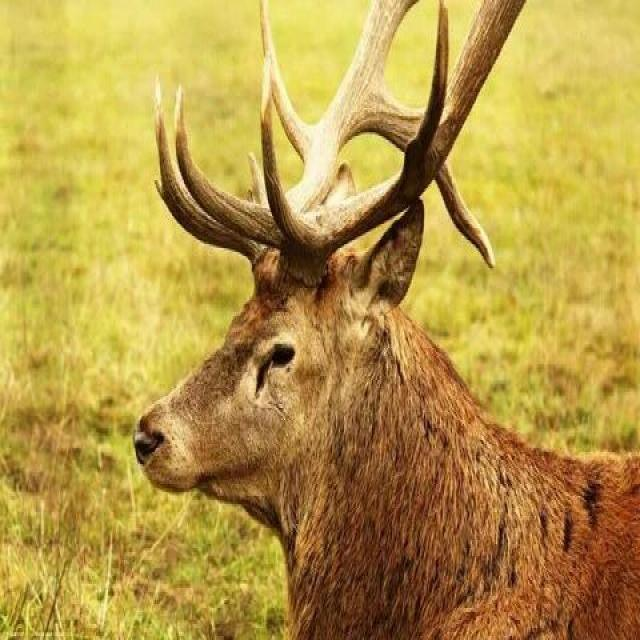deer: (112, 6, 566, 618)
